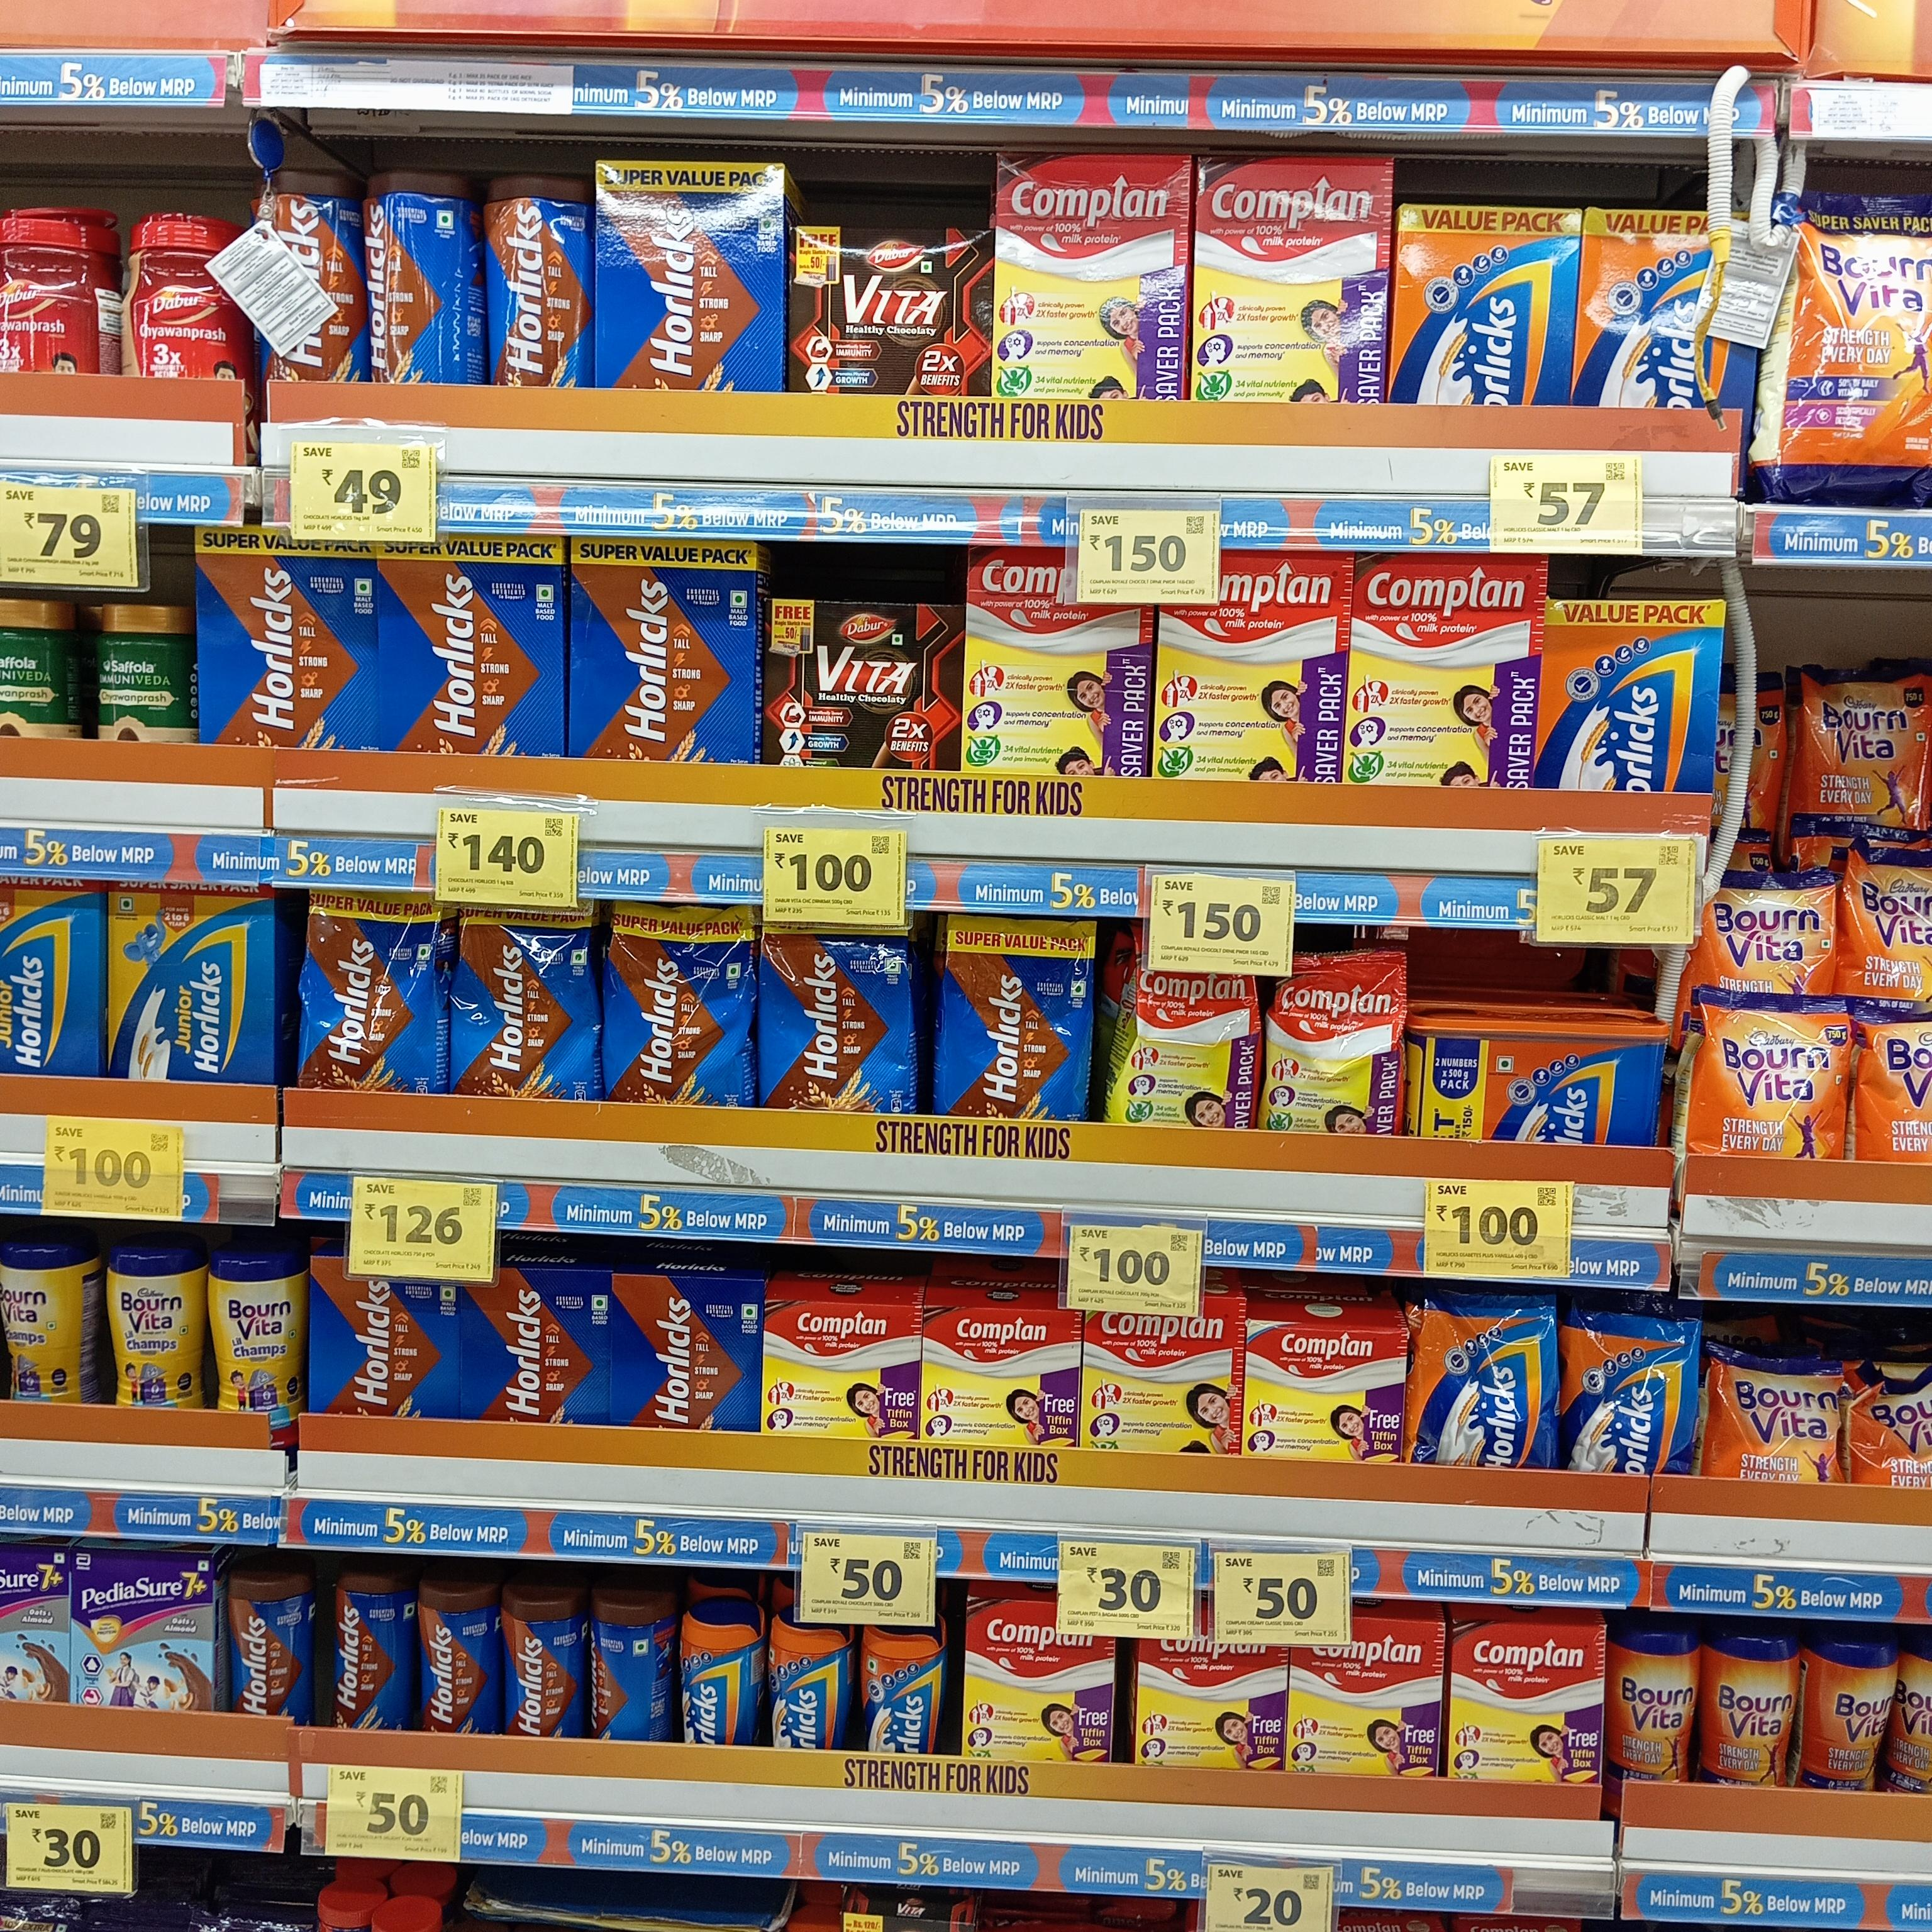BOURN_VITA_1_KG_POUCH: (1778, 180, 1932, 501)
BOURN_VITA_200_G_JAR: (1695, 991, 1847, 1161), (1706, 1346, 1842, 1481), (1842, 851, 1932, 998)
BOURN_VITA_500_G_JAR: (1700, 1631, 1789, 1783), (1605, 1631, 1695, 1778), (1801, 1637, 1882, 1789)
BOURN_VITA_500_G_POUCH: (1792, 662, 1932, 851)
BOURN_VITA_CHAMPS_500_G_JAR: (209, 1254, 303, 1410), (0, 1251, 96, 1403), (110, 1254, 203, 1403)
COMPLAN_CHOCOLATE_1_KG_PACK: (1194, 150, 1384, 400), (998, 154, 1184, 402), (1350, 552, 1534, 789), (964, 593, 1148, 780), (1159, 602, 1346, 780)
COMPLAN_CHOCOLATE_500_GMS_PACK: (924, 1302, 1081, 1445), (768, 1299, 918, 1437)
COMPLAN_CREAMY_CLASSIC_500_G_PACK: (1451, 1621, 1603, 1780), (964, 1596, 1111, 1760), (1249, 1323, 1405, 1463), (1290, 1647, 1438, 1780), (1138, 1638, 1286, 1769)
COMPLAN_KESAR_BADAM_500_GMS_PACK: (1083, 1311, 1246, 1449)
COMPLAN_RC_POUCH_700_GMS_12: (1265, 948, 1407, 1132), (1125, 973, 1260, 1123)
HORLICK_CHOCOLATE_1_KG_JAR: (370, 175, 481, 386), (485, 182, 589, 389)
HORLICK_CHOCOLATE_1_KG_PACK: (594, 163, 784, 389), (570, 534, 755, 763), (195, 531, 379, 747), (384, 543, 566, 752)
HORLICK_CHOCOLATE_500_G_JAR: (230, 1569, 313, 1716), (333, 1576, 409, 1727), (418, 1587, 494, 1734), (501, 1599, 582, 1736)
HORLICK_CHOCOLATE_500_G_PACK: (610, 1272, 763, 1430), (464, 1272, 607, 1424), (310, 1272, 456, 1419)
HORLICK_CHOCOLATE_750_G_POUCH: (938, 913, 1093, 1118), (605, 901, 757, 1109), (759, 920, 915, 1113), (301, 888, 446, 1090), (449, 904, 596, 1097)
HORLICK_CLASSIC_MALT_500_G_JAR: (858, 1628, 941, 1755), (679, 1615, 759, 1748), (768, 1621, 846, 1750)
HORLICK_CLASSIC_MALT_500_G_PACK: (1541, 602, 1721, 794), (1394, 207, 1568, 405), (1580, 207, 1716, 405)
HORLICK_CLASSIC_MALT_750_G_POUCH: (1417, 1295, 1557, 1465), (1564, 1309, 1695, 1472)
HORLICK_MALT_1_KG_CONTAINER: (1417, 1019, 1663, 1145)
PEDIASURE_7_PLUS_CHOCOLATE_400_G_PACK: (71, 1557, 212, 1713)
